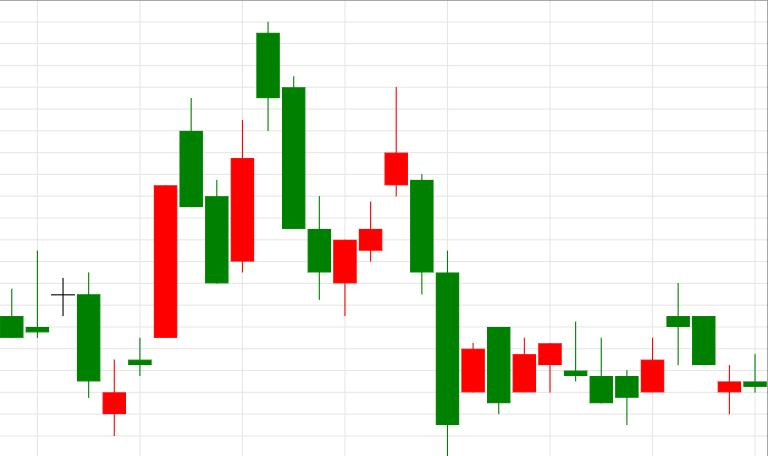shooting_star_fall: (308, 87, 407, 316)
